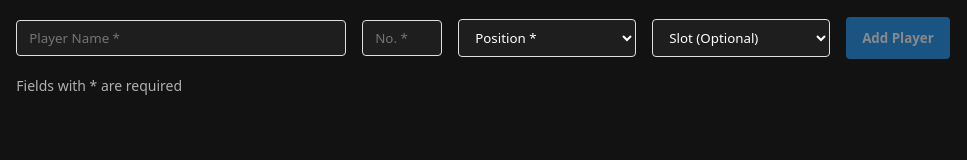
AddPlayer › disables add button when form is invalid
The image size is (967, 160).
Expected: the button "Add Player" is disabled, [846,16,950,58]
// Fill in only name
In the field labelled "Player Name": (181, 38) [16,20,346,56], type "John Doe"
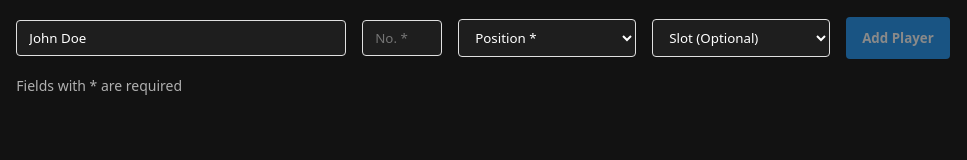
Expected: the button "Add Player" is disabled, [846,16,950,58]
// Fill in name and number
In the number field named "Number": (402, 38) [362,20,442,56], type "8"
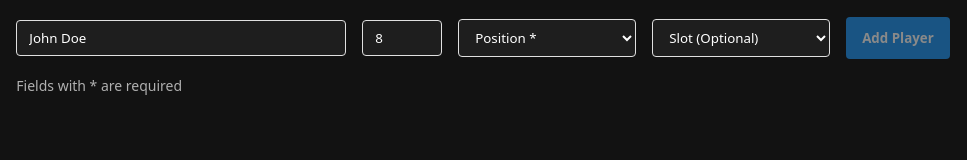
Expected: the button "Add Player" is disabled, [846,16,950,58]
// Fill in name, number, and position
Select "QB" in the dropdown named "Position": (547, 38) [458,18,636,56]
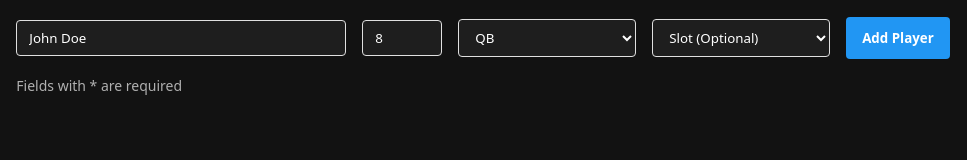
Result: the button "Add Player" is enabled at [846,16,950,58]
